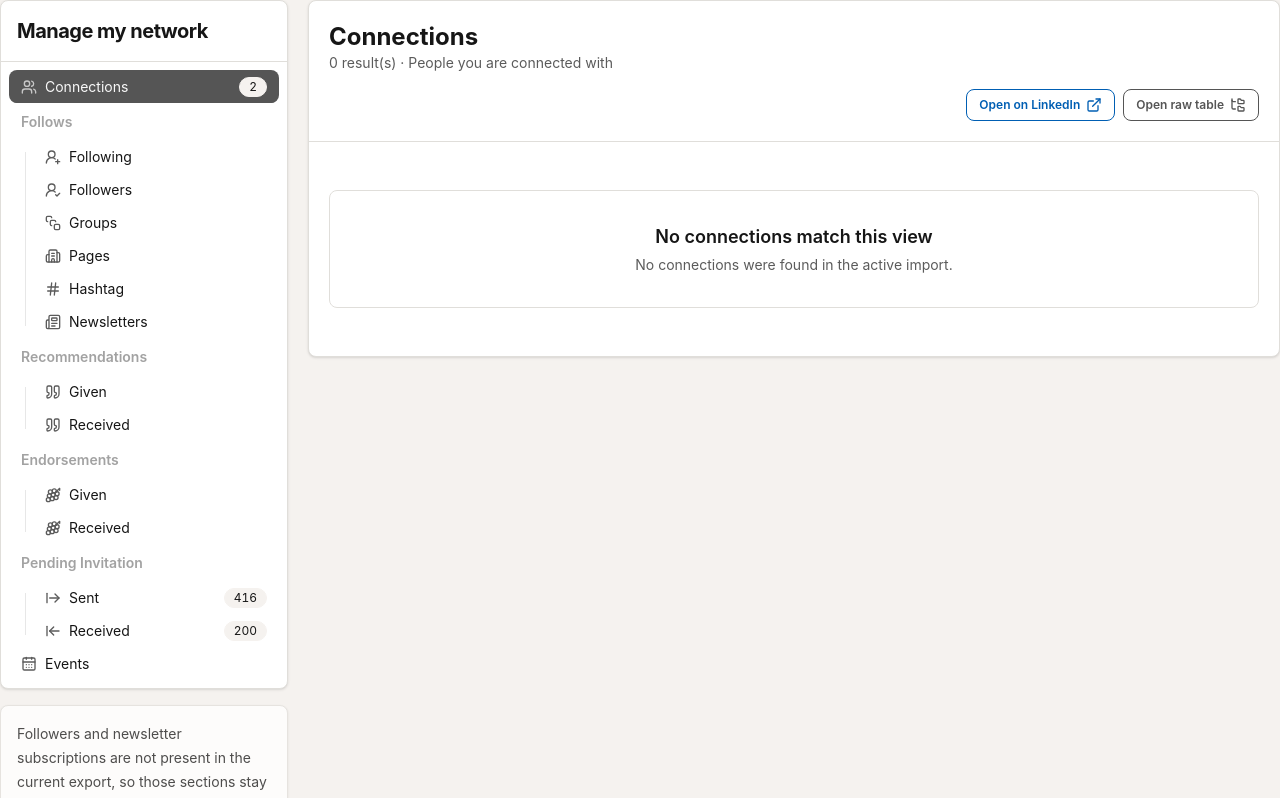
NetworkPage › renders split invitation views with LinkedIn shortcuts
Expected: the button named "Invitations sent" is shown, [33,581,279,614]
Click the button named "Invitations received".
click(156, 630)  # box [33,614,279,647]
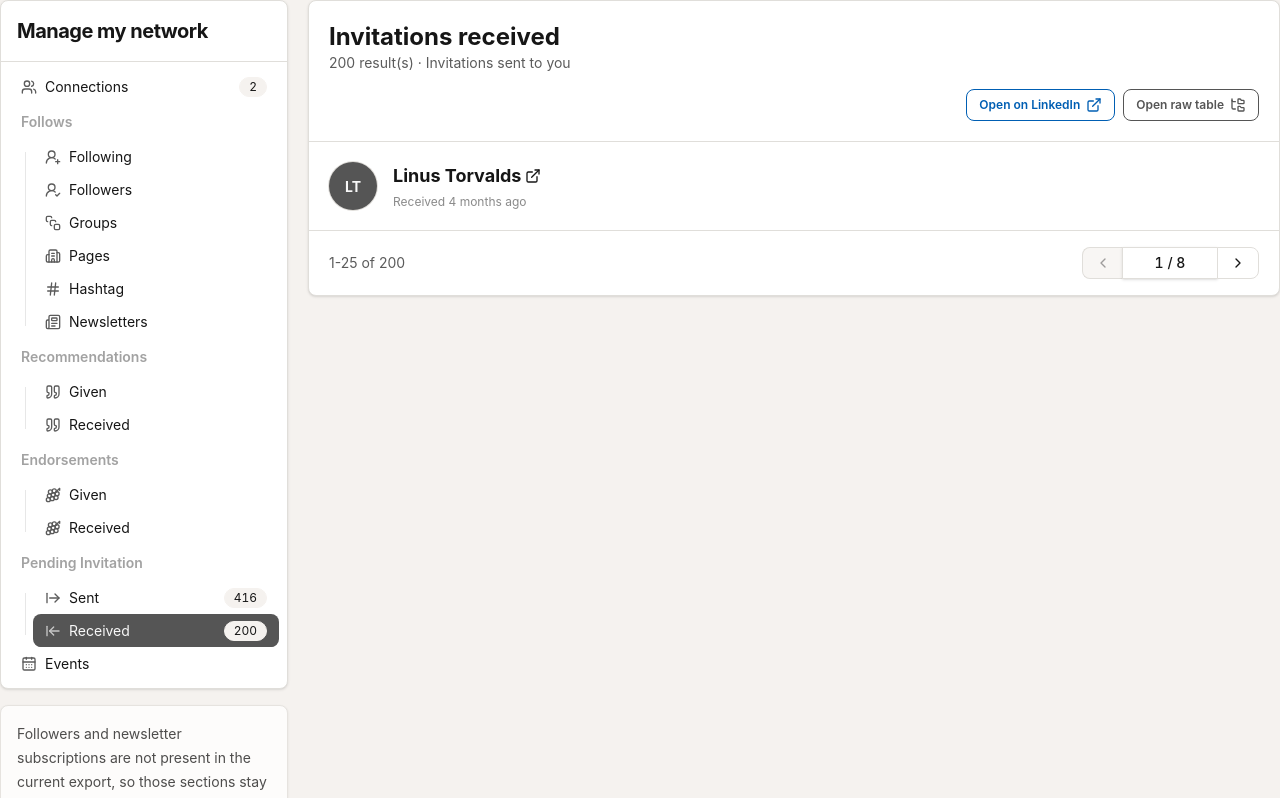
Expected: the text "Ada Lovelace" is not shown
Expected: the heading "Invitations received" is shown, [329,22,560,51]
Click the button named "Invitations sent".
click(156, 598)  # box [33,581,279,614]
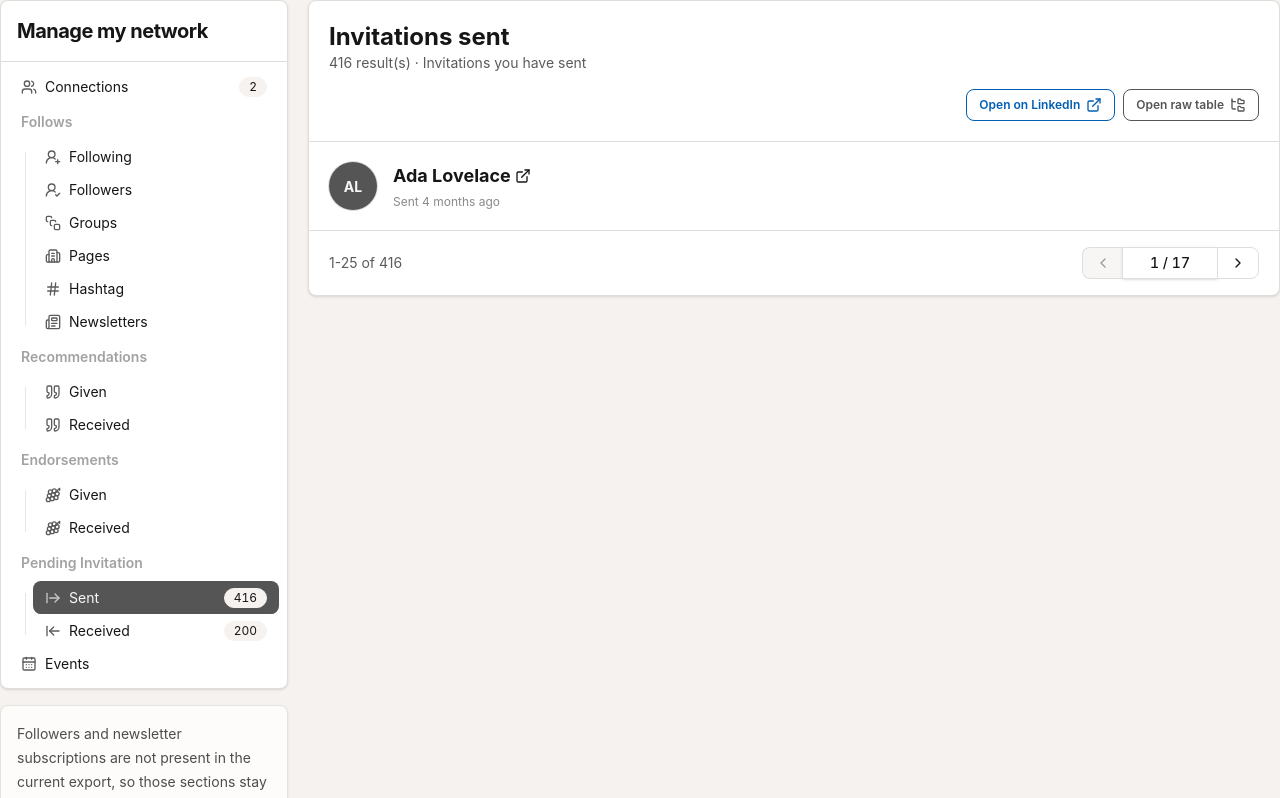
Expected: the heading "Invitations sent" is shown, [329,22,510,51]
